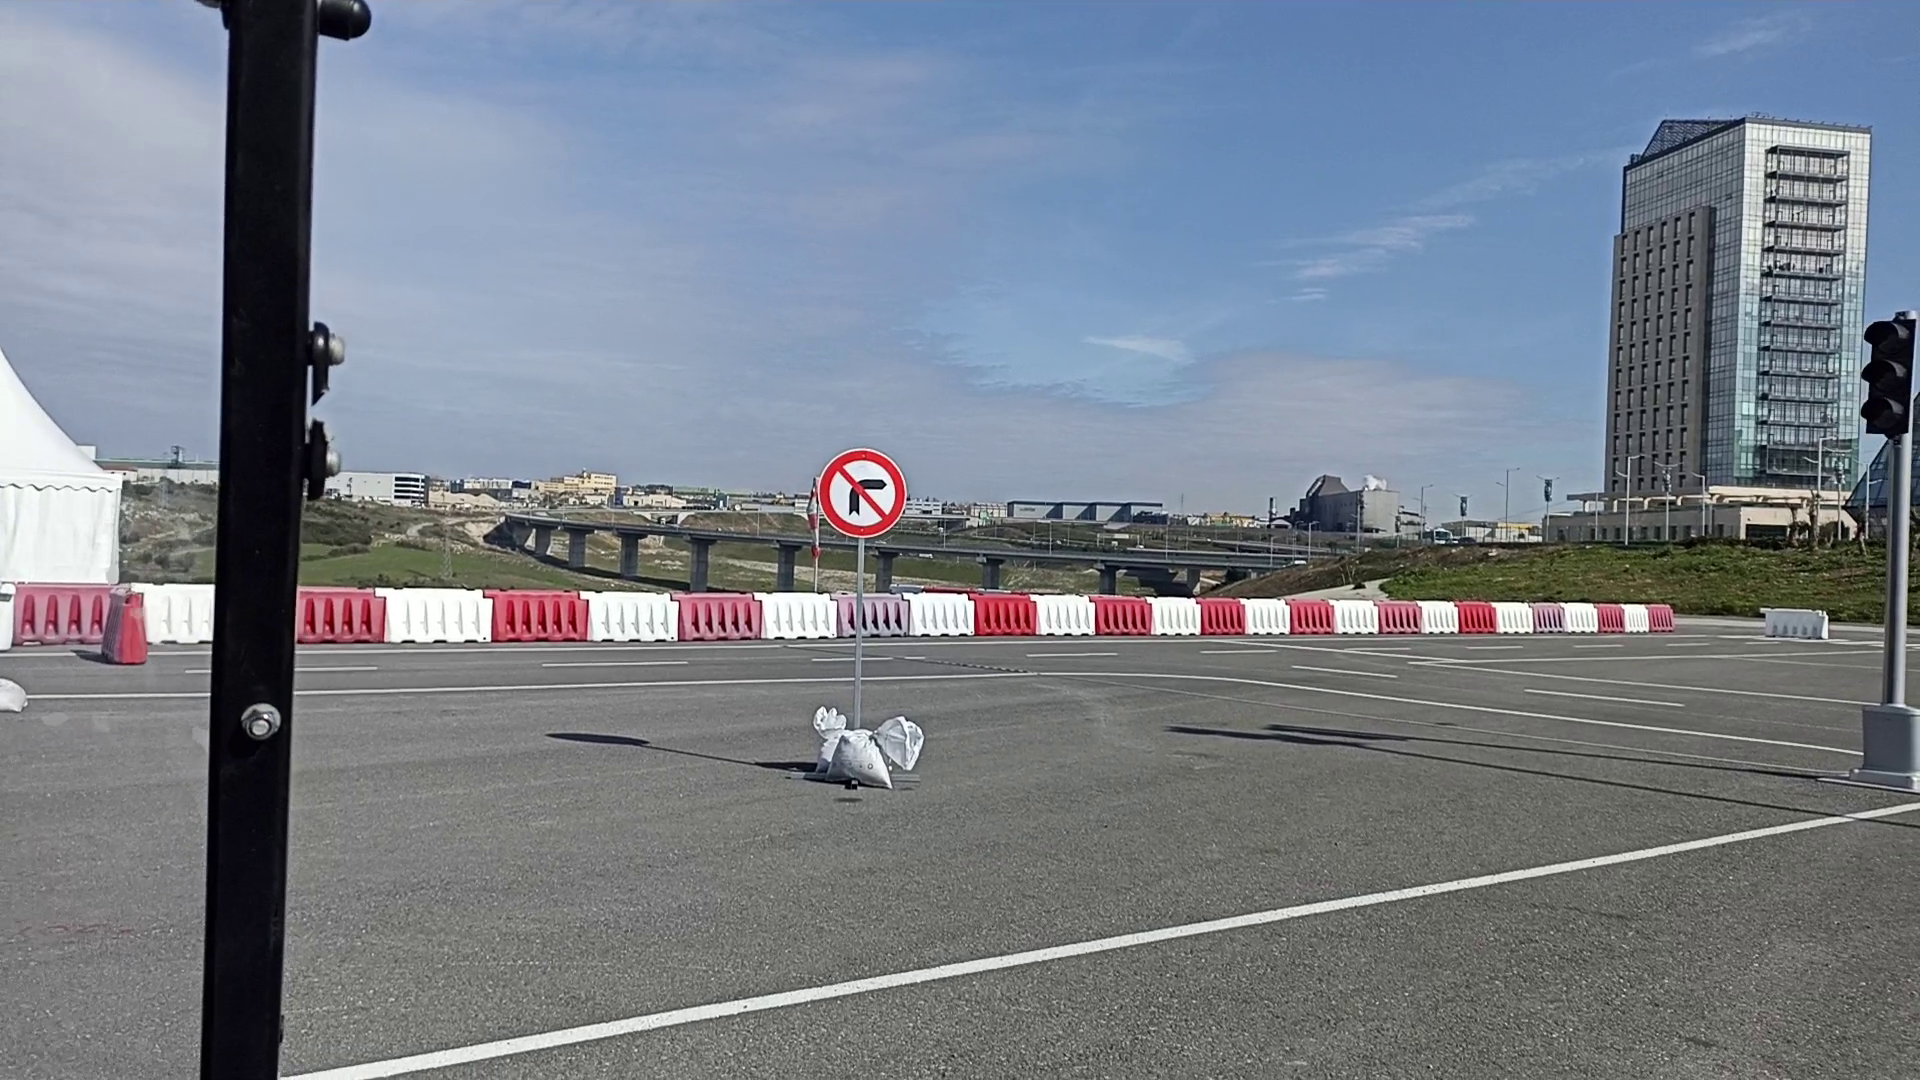noleftturn: (815, 444, 910, 541)
trafficlight: (1857, 313, 1917, 439)
